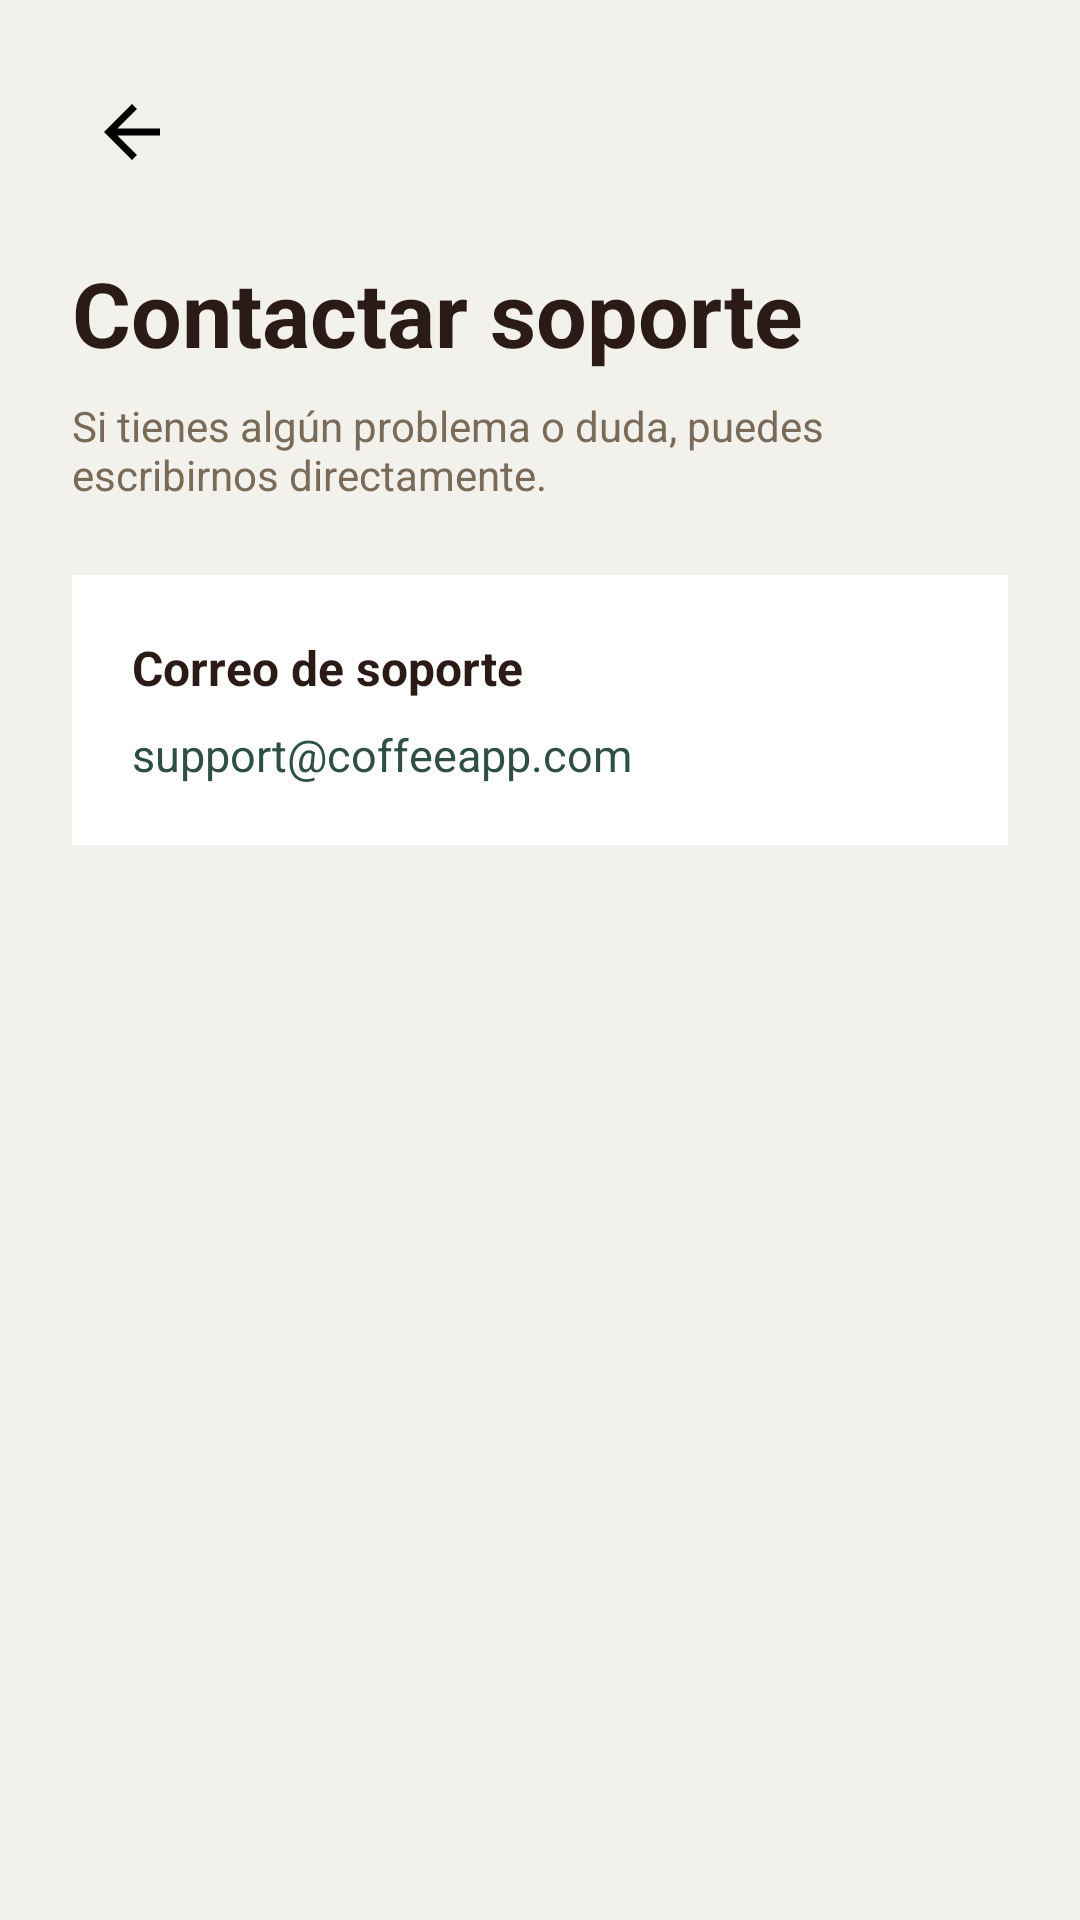

Screen size 1080 × 1920. Icon name, then its center in pixels as (x=x, y=y):
arrow back: (x=132, y=132)
